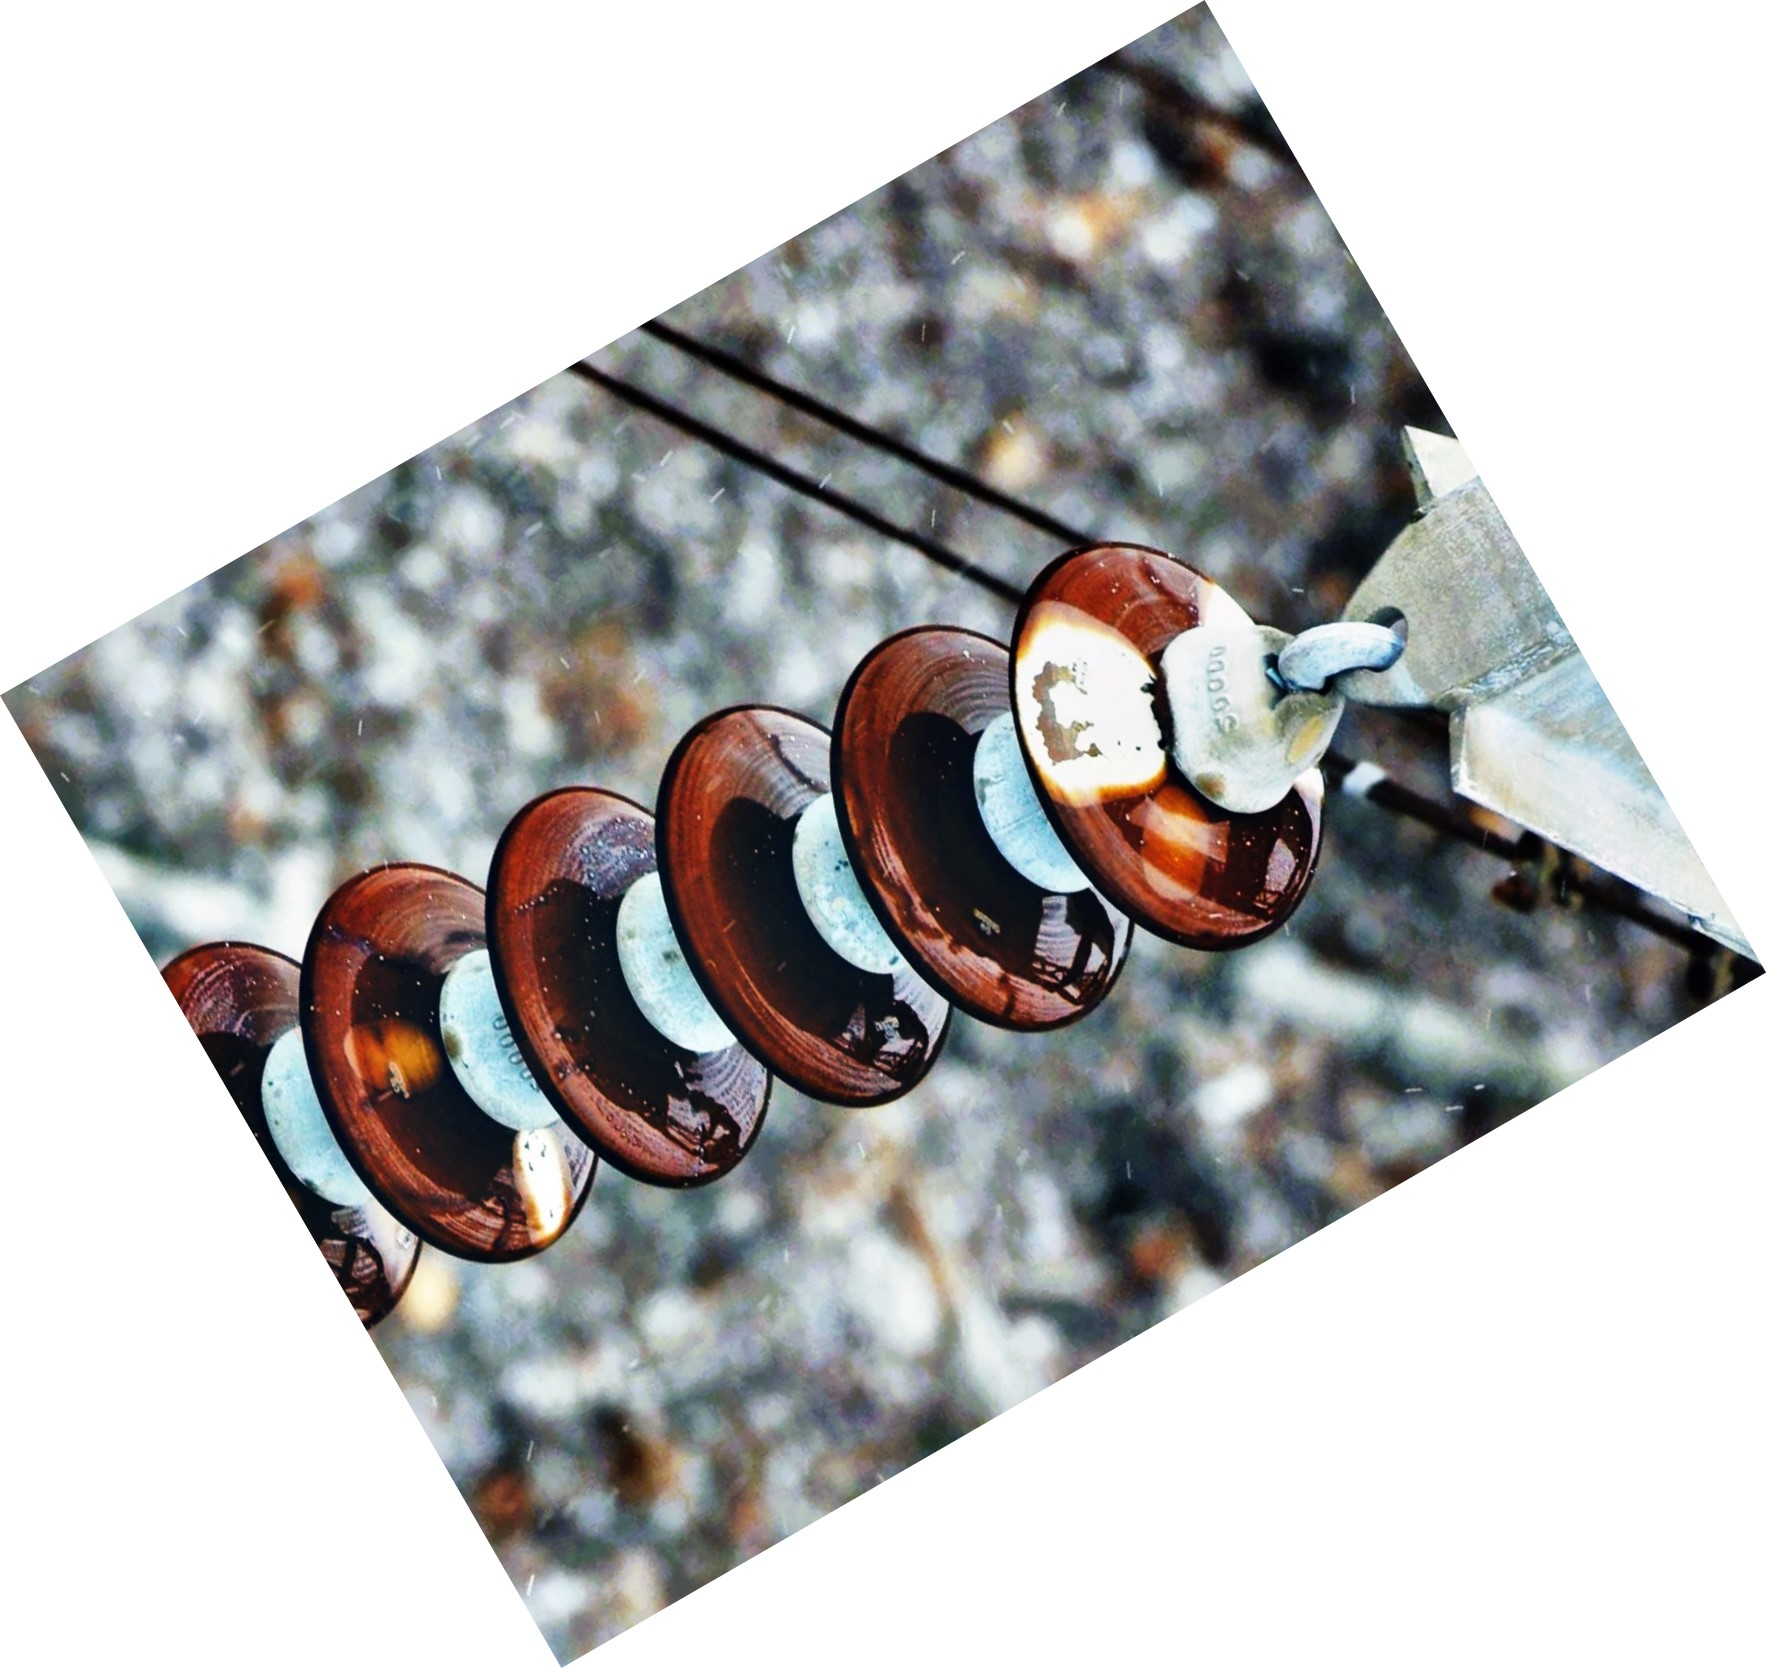Insulator flashover: (990, 509, 1366, 963)
